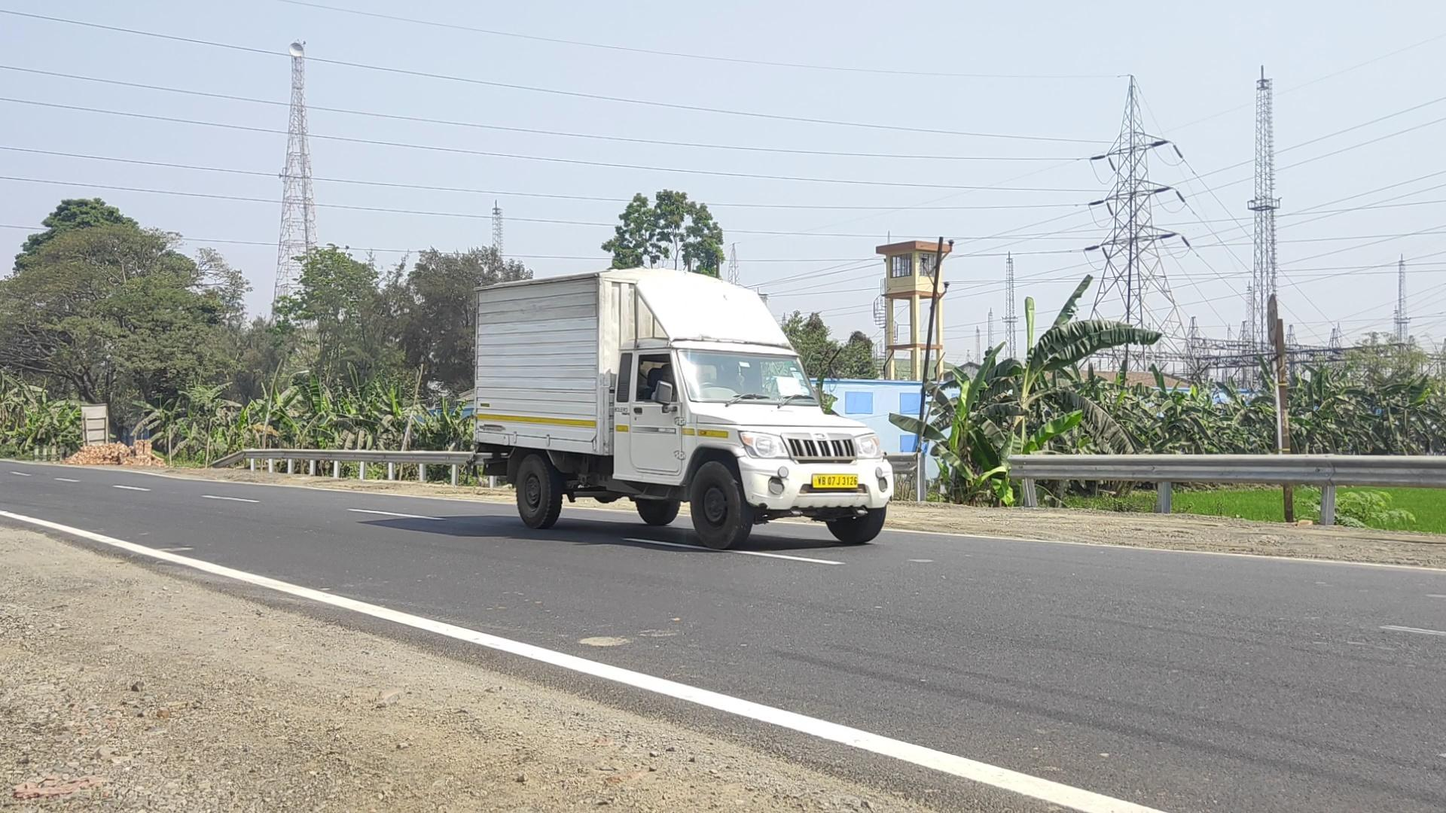van: (474, 267, 894, 550)
